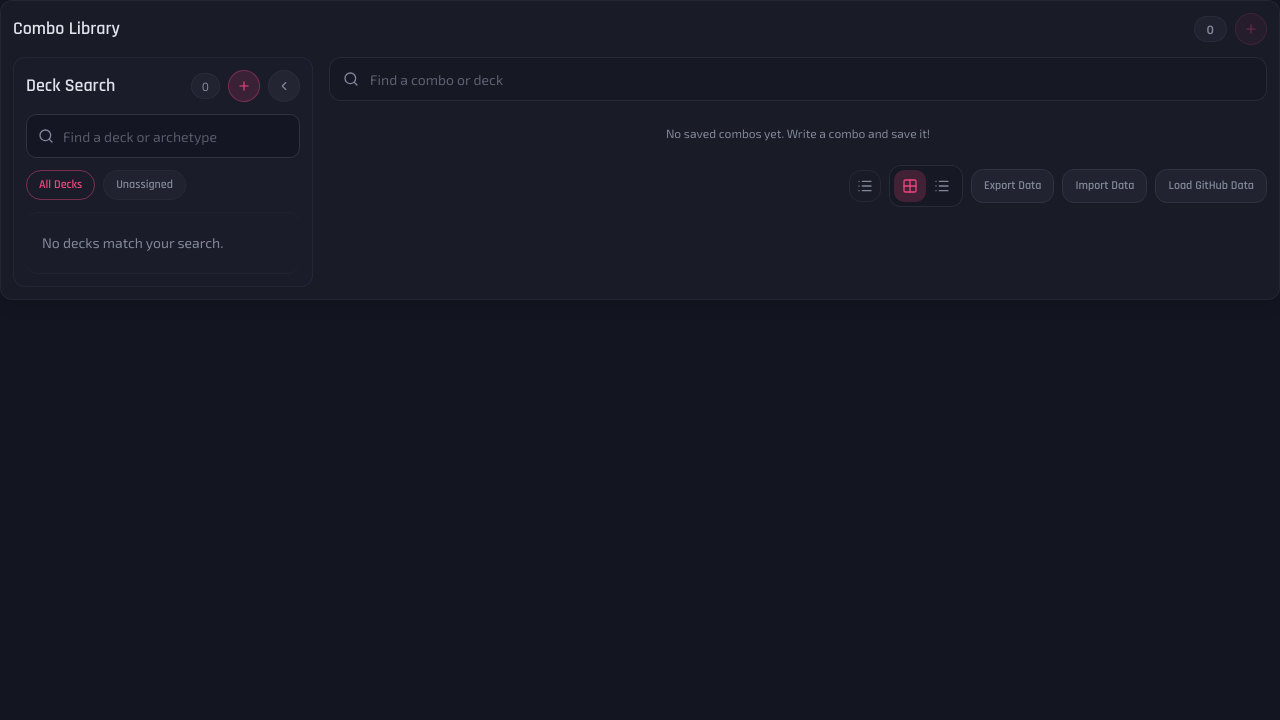
ComboLibrary view toggle › creates and persists an empty deck from Deck Search
Later steps or results of the test are not shown.
Click the button named "Add deck" at (244, 86), box [228,70,260,102]
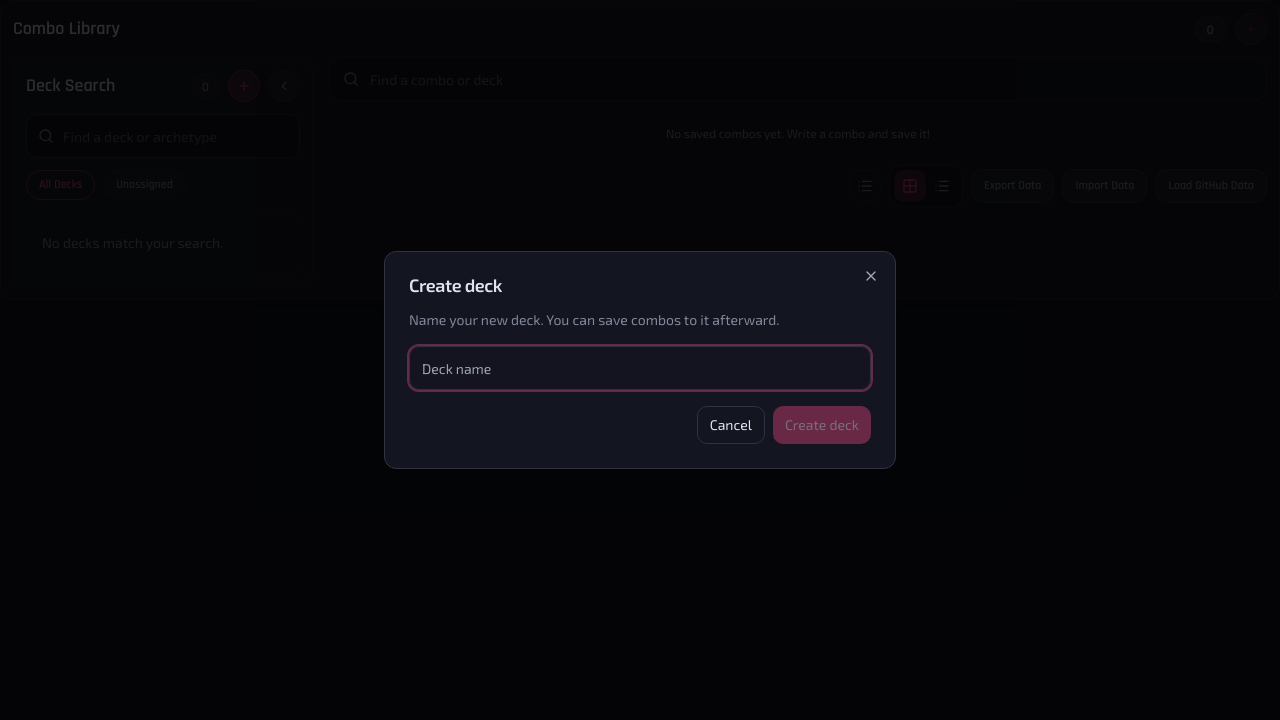
Type "New Archetype" into the field named "New deck name" at (640, 368), box [409,346,871,390]
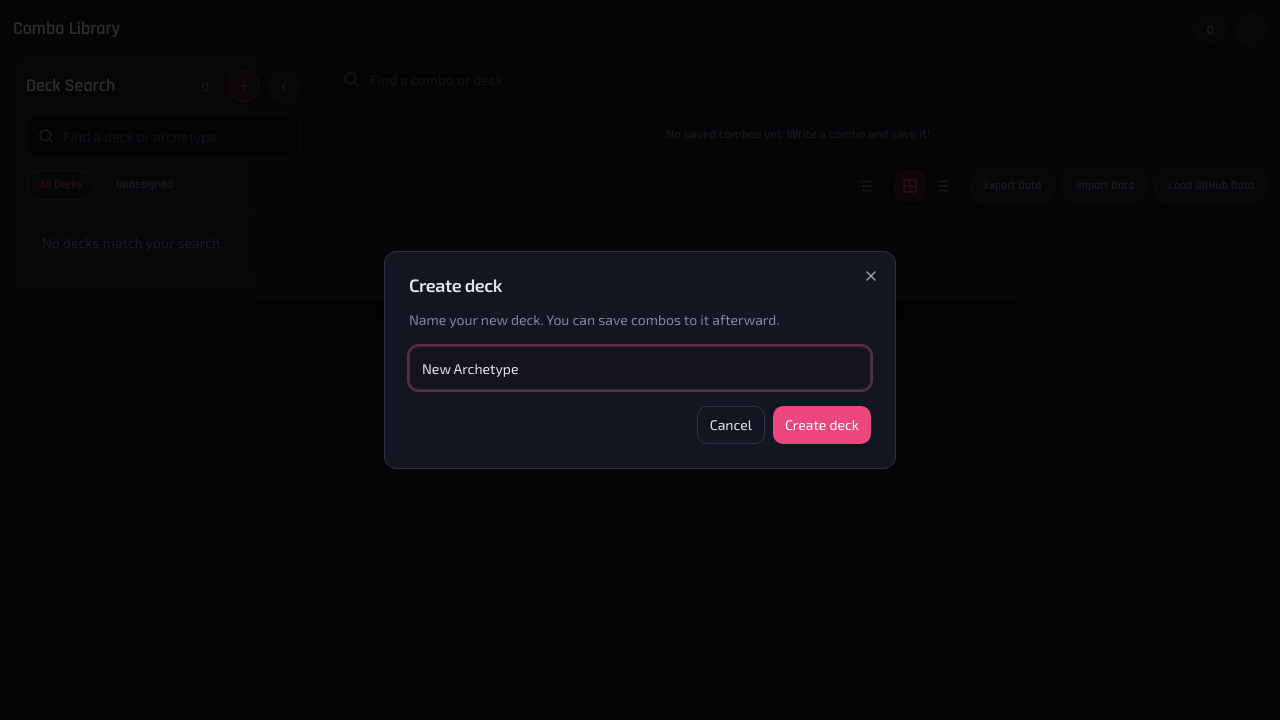
Click the button "Create deck" at (822, 425), box [773,406,871,444]
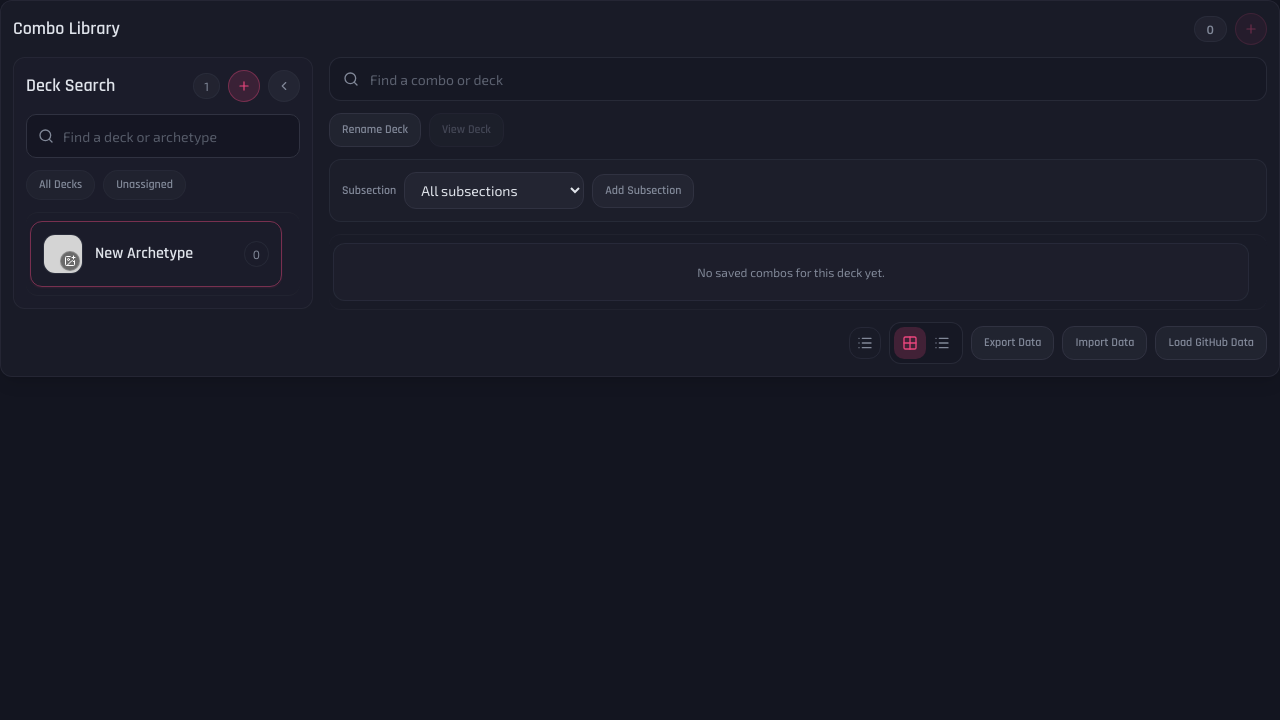
Now the text "No saved combos for this deck yet." is shown, box [333,243,1249,301]
